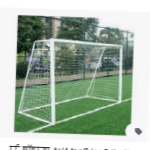goals: (18, 36, 125, 124)
